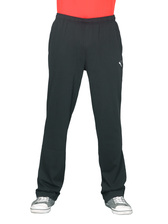clothoes: (39, 12, 129, 201)
shoes: (26, 184, 61, 214), (96, 190, 135, 216)
